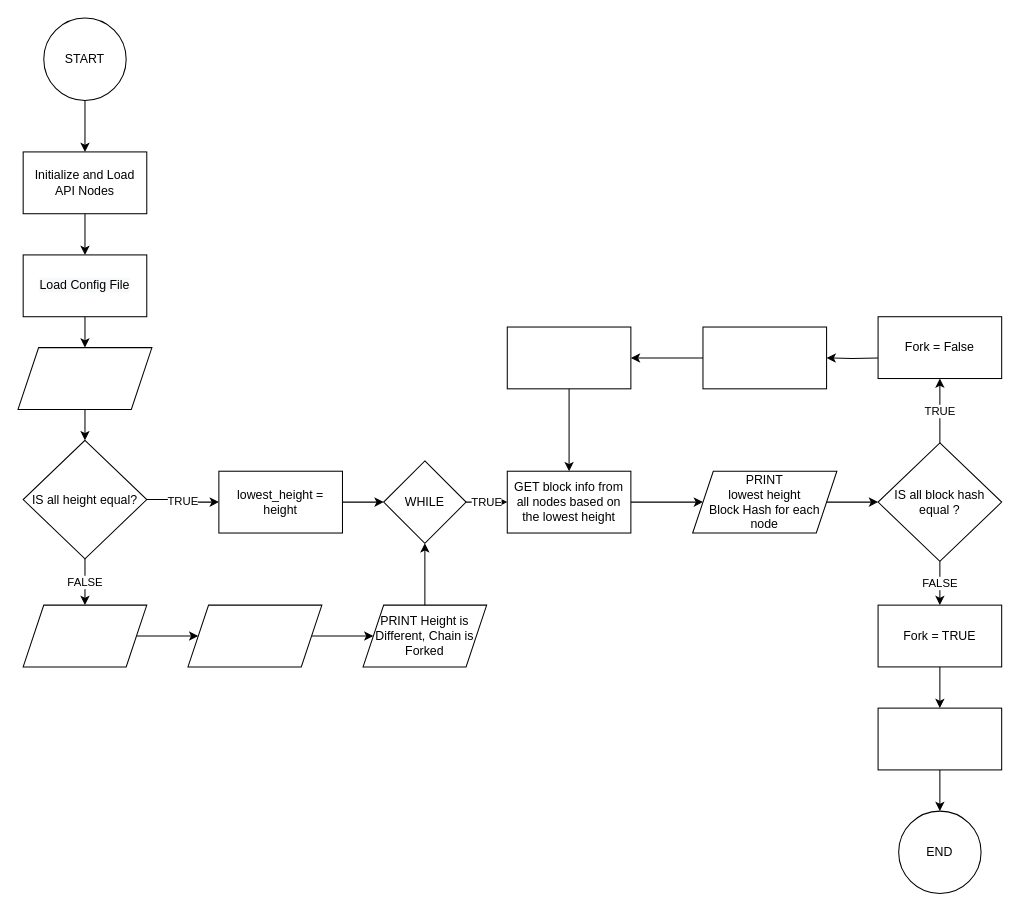
This 1020x912 diagram has some shape labels left out. Here are the shapes that lost their labels. From the top down, the centre of each, then its label:
At point (568, 357): "Sleep for 30 seconds".
At point (764, 357): "lowest_height++".
At point (84, 378): "GET height from each api NODES".
At point (84, 635): "PRINT height is not equal".
At point (254, 635): "GET lowest_height from each API Nodes Height".
At point (939, 738): "Send Alert to Telegram via Bot".
